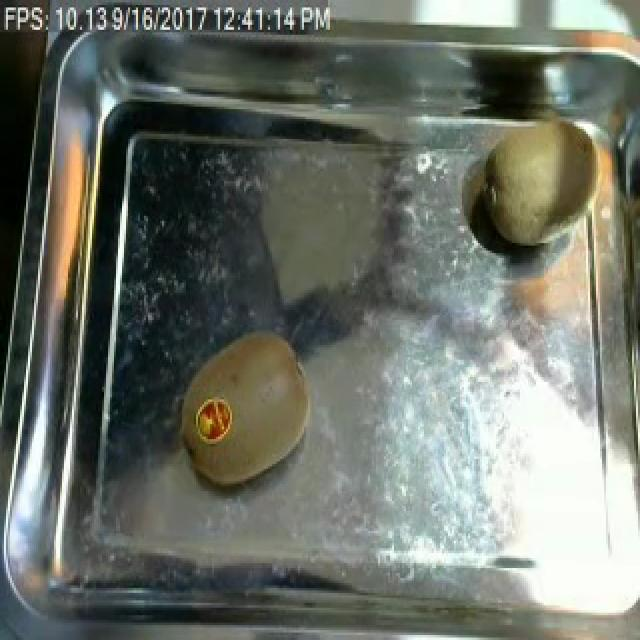Fruit: (464, 100, 638, 260), (174, 320, 322, 496)
